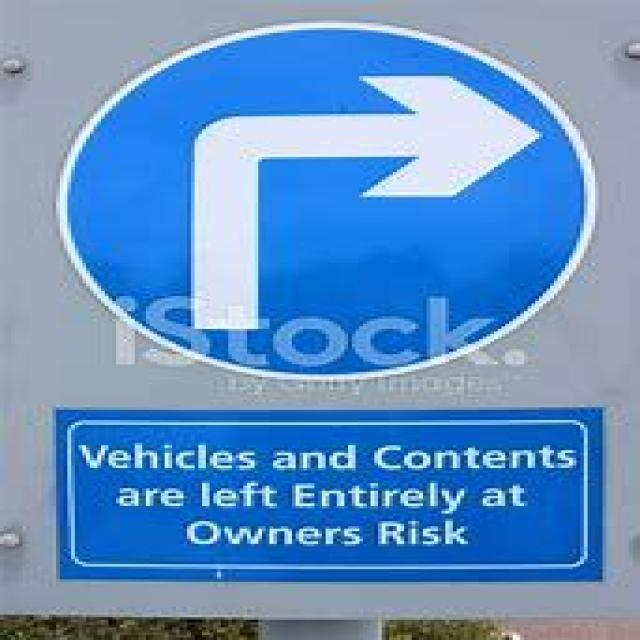COMPULSARY_TURN_RIGHT_AHEAD: (56, 20, 600, 378)
